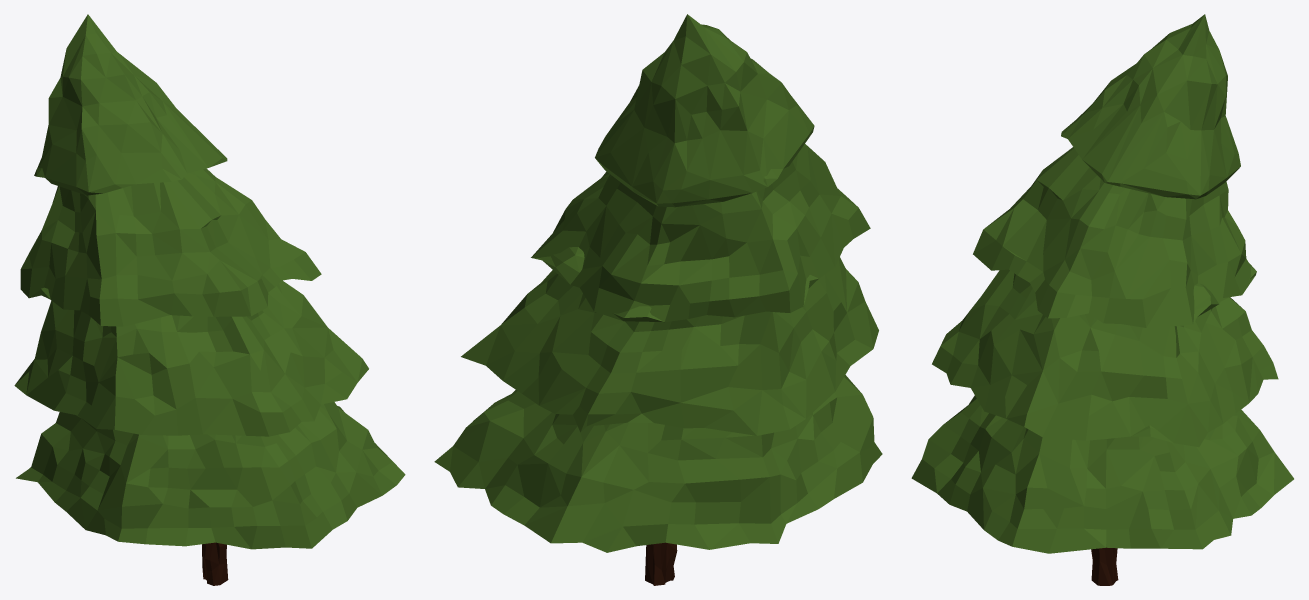
File: Arbol 4.fbx
3 renders of one model, left to right at view 1: azimuth 30°, elevation 25°; view 2: azimuth 150°, elevation 25°; view 3: azimuth 270°, elevation 25°, orthographic. The views are drawn at different scales.
Parts seen in each view (by area): view 1: Arbol 4_LOD0; view 2: Arbol 4_LOD0; view 3: Arbol 4_LOD0.
Part boxes in pixels (x1,y1,x2,y2): Arbol 4_LOD0: (14,14,405,585); Arbol 4_LOD0: (434,14,882,585); Arbol 4_LOD0: (911,14,1293,585).
Size of what is drawn, in the model's own units: 174 by 296 by 193.
